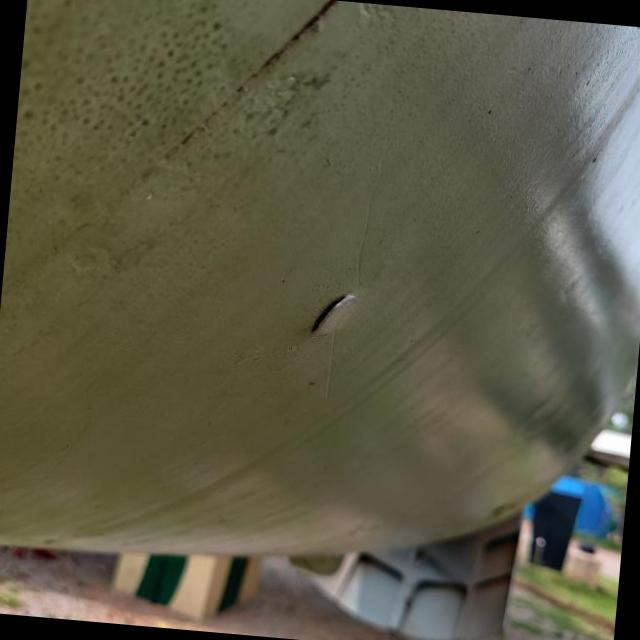Crack: (311, 293, 355, 336)
